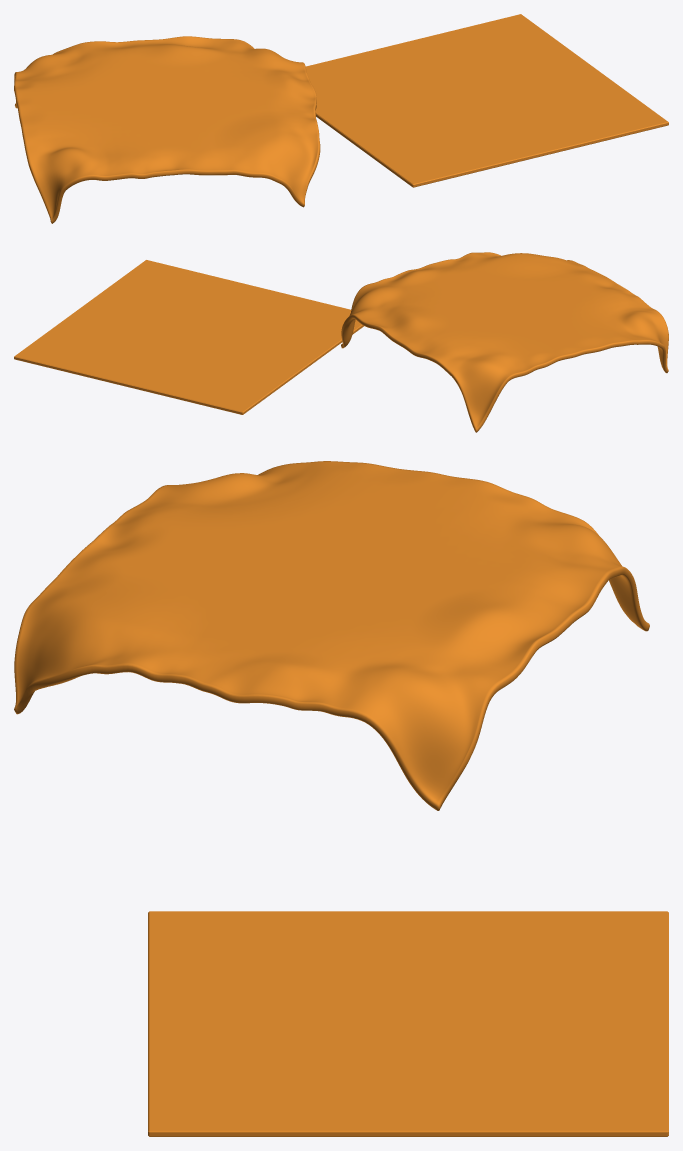
File: Cheese.fbx
3 renders of one model, top to bottom at view 1: azimuth 30°, elevation 25°; view 2: azimuth 150°, elevation 25°; view 3: azimuth 270°, elevation 25°, orthographic. The views are drawn at different scales.
Parts seen in each view (by area): view 1: MeltedCheese, Cheese.050; view 2: Cheese.050, MeltedCheese; view 3: MeltedCheese, Cheese.050.
Part boxes in pixels (<box>): MeltedCheese: <box>14,36,320,223</box>; Cheese.050: <box>305,14,668,187</box>; Cheese.050: <box>14,260,363,414</box>; MeltedCheese: <box>341,252,668,432</box>; MeltedCheese: <box>14,461,649,810</box>; Cheese.050: <box>148,911,668,1136</box>.
Bounding box in the file's own units: 402 × 66.47 × 213.
